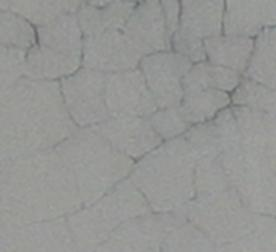fissura: (14, 0, 276, 222)
